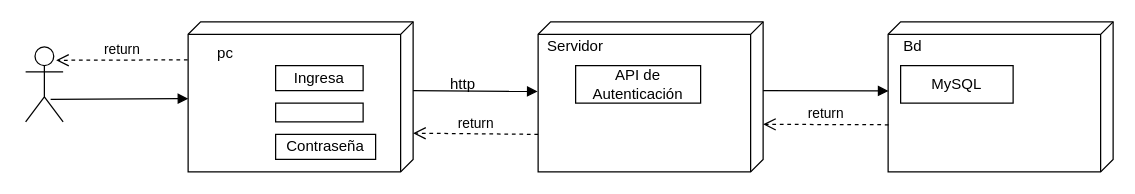
This 1135x194 diagram has some shape labels left out. The shapes that lost their labels are listed below. From the top down, each one's box as (x1, y1, x2, y2) in pixels, then its label:
(24, 46, 63, 122): Cliente
(274, 102, 363, 122): Usuario
